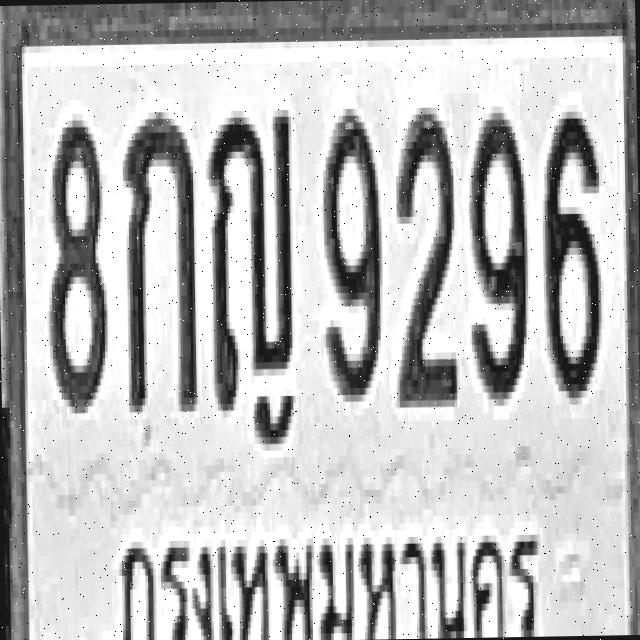10GorGai: (122, 105, 196, 412)
2: (392, 103, 457, 404)
22YorYing: (207, 106, 296, 407)
6: (542, 108, 601, 394)
8: (46, 112, 108, 406)
9: (320, 104, 382, 398), (467, 106, 527, 400)
Bangkok: (109, 506, 548, 640)
